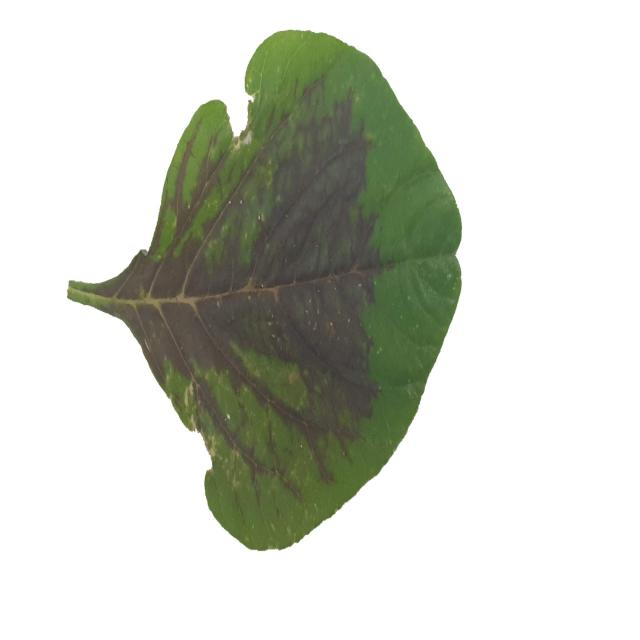Medicinal-Arive Dantu: (69, 28, 462, 554)
